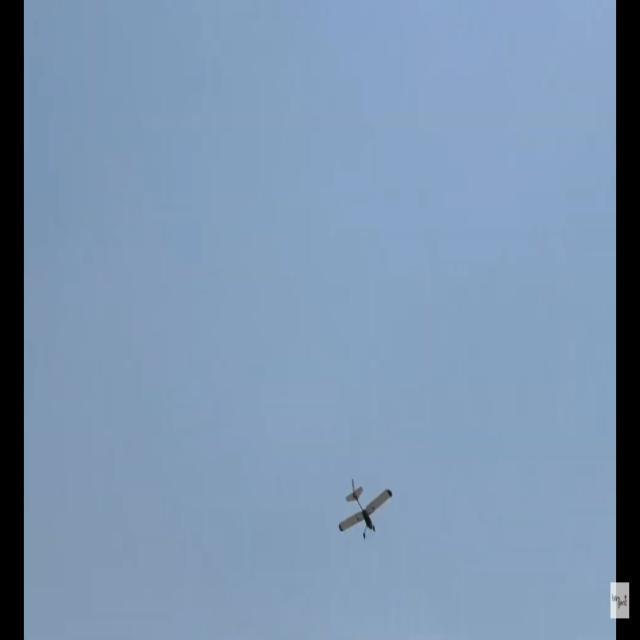iha: (338, 478, 392, 540)
